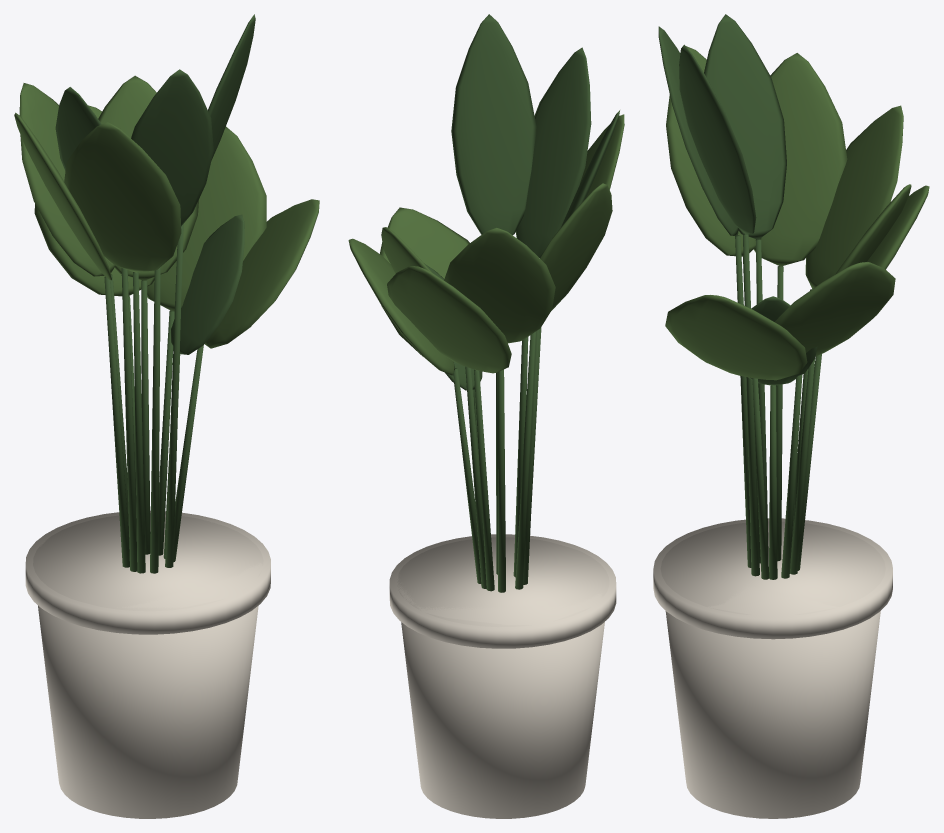
Rendered from plant.glb.
The picture shows the model from 3 angles, left to right: view 1: azimuth 30°, elevation 25°; view 2: azimuth 150°, elevation 25°; view 3: azimuth 270°, elevation 25°; orthographic projection. The views are drawn at different scales.
Parts seen in each view (by area): view 1: pot, leaf1, pot_rim, leaf6, leaf5, leaf8, leaf0, leaf7, leaf4, leaf10, stem3, stem6 (+10 smaller); view 2: pot, leaf3, pot_rim, leaf6, leaf7, leaf2, leaf4, leaf8, leaf5, stem4, stem7, stem2 (+7 smaller); view 3: pot, leaf4, leaf9, pot_rim, leaf7, leaf8, leaf3, leaf5, leaf1, leaf6, stem3, leaf10 (+11 smaller).
Part boxes in pixels (box(x1,y1,x2,y2)): pot: box(33, 514, 263, 818); leaf1: box(64, 122, 181, 272); pot_rim: box(25, 510, 270, 634); leaf6: box(131, 69, 213, 226); leaf5: box(147, 126, 266, 311); leaf8: box(204, 199, 319, 348); leaf0: box(170, 214, 244, 354); leaf7: box(19, 83, 115, 276); leaf4: box(14, 112, 111, 280); leaf10: box(98, 75, 198, 280); stem3: box(165, 224, 183, 567); stem6: box(150, 267, 160, 573); pot: box(397, 537, 609, 818); leaf3: box(451, 14, 536, 235); pot_rim: box(389, 534, 616, 648); leaf6: box(515, 47, 591, 257); leaf7: box(444, 228, 555, 343); leaf2: box(387, 266, 511, 373); leaf4: box(540, 183, 612, 310); leaf8: box(380, 207, 469, 356); leaf5: box(348, 238, 454, 375); stem4: box(515, 331, 536, 589); stem7: box(498, 369, 505, 592); stem2: box(474, 369, 494, 591); pot: box(660, 521, 885, 818); leaf4: box(753, 53, 847, 266); leaf9: box(704, 14, 786, 239); pot_rim: box(653, 518, 892, 639); leaf7: box(805, 105, 903, 288); leaf8: box(665, 295, 807, 380); leaf3: box(679, 44, 756, 234); leaf5: box(775, 262, 895, 355); leaf1: box(666, 46, 761, 256); leaf6: box(658, 26, 738, 236); stem3: box(743, 233, 759, 576); leaf10: box(835, 184, 911, 274).
Size of the model in its own units: 0.4083 by 1.16 by 0.3802.
